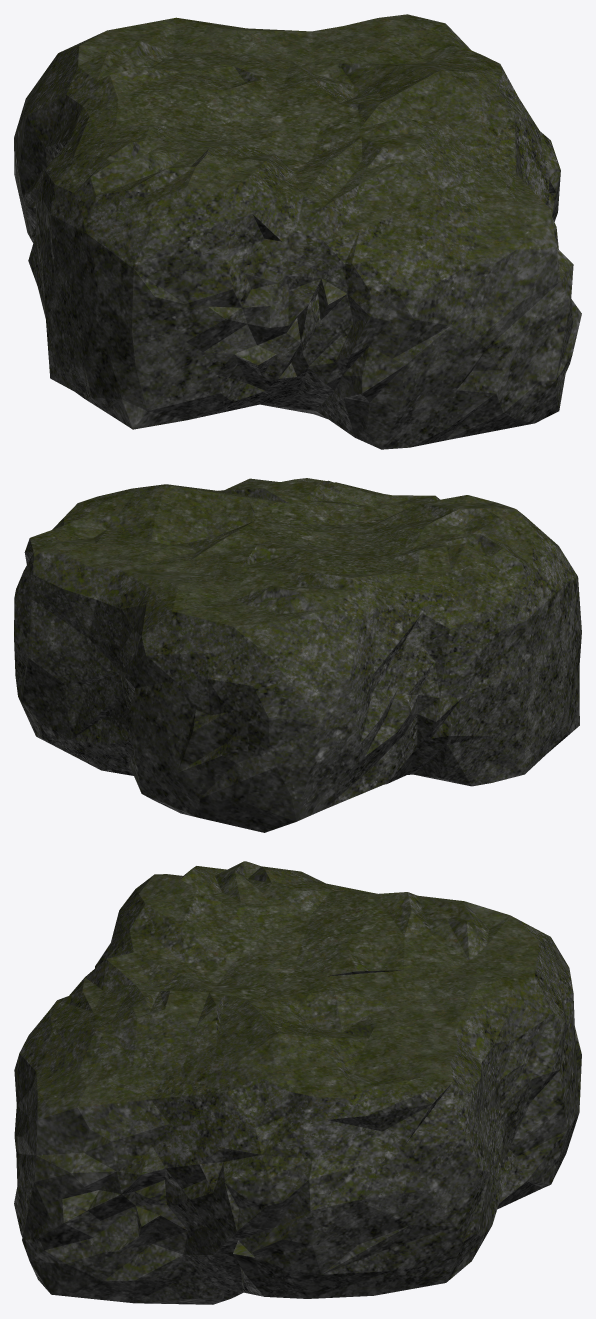
File: Rock big 2.fbx
3 views of the same model, one above another, from view 1: azimuth 30°, elevation 25°; view 2: azimuth 150°, elevation 25°; view 3: azimuth 270°, elevation 25° (orthographic). The views are drawn at different scales.
Visible parts, largest first — view 1: Rock big 2; view 2: Rock big 2; view 3: Rock big 2.
Part boxes in pixels (bbox=[...]): Rock big 2: bbox=[14, 14, 581, 449]; Rock big 2: bbox=[14, 478, 581, 832]; Rock big 2: bbox=[14, 861, 581, 1304].
Size of the model in its own units: 4.87 by 2.6 by 4.75.
